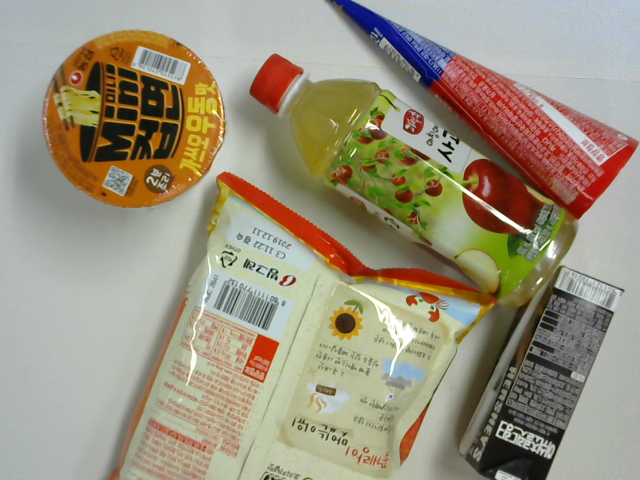Crabrang: (107, 174, 493, 480)
Hush_Choco_Drink: (460, 262, 625, 480)
Morning_Apple_500ml: (247, 58, 576, 302)
Udongmini: (44, 28, 225, 193)
World_Cone_Banila: (326, 1, 639, 219)
